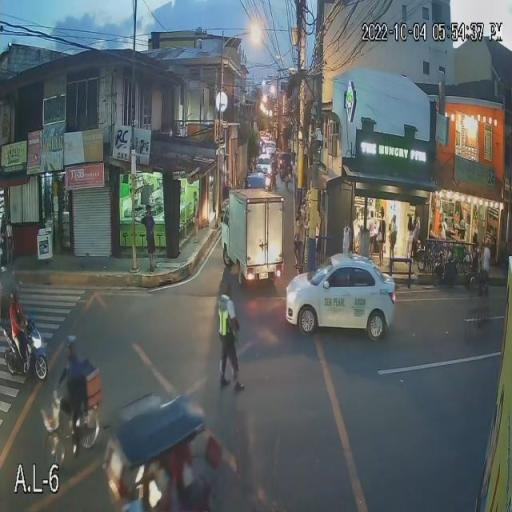helmet: (9, 289, 22, 302), (66, 334, 78, 344)
motorcycle: (0, 314, 50, 380)
rider: (58, 335, 91, 431), (8, 290, 32, 365)
